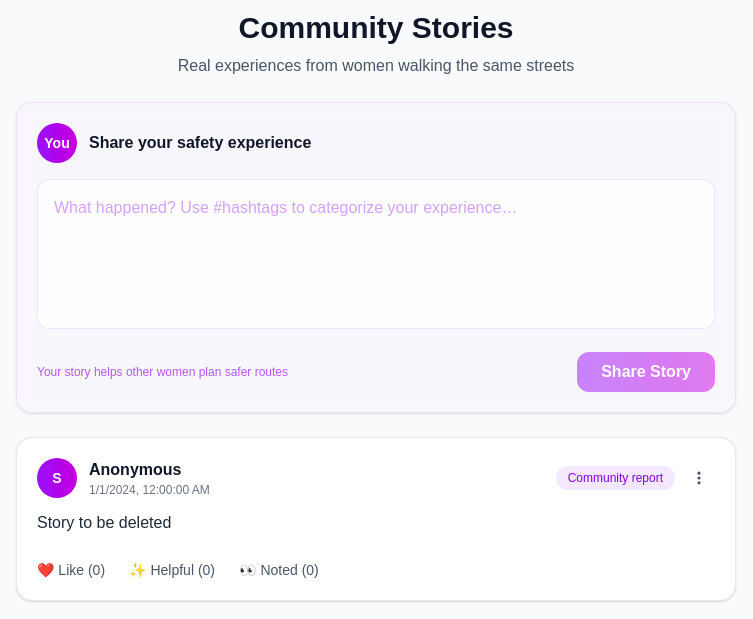
Test: StoryFeed Integration › should handle delete action by removing story from feed
This screenshot has width=753, height=619.
Expected: the text "Story to be deleted" is shown, [37,514,171,531]
# Find and click the three-dot menu
Click the button named "Story options" at (699, 478), box [683,462,715,494]
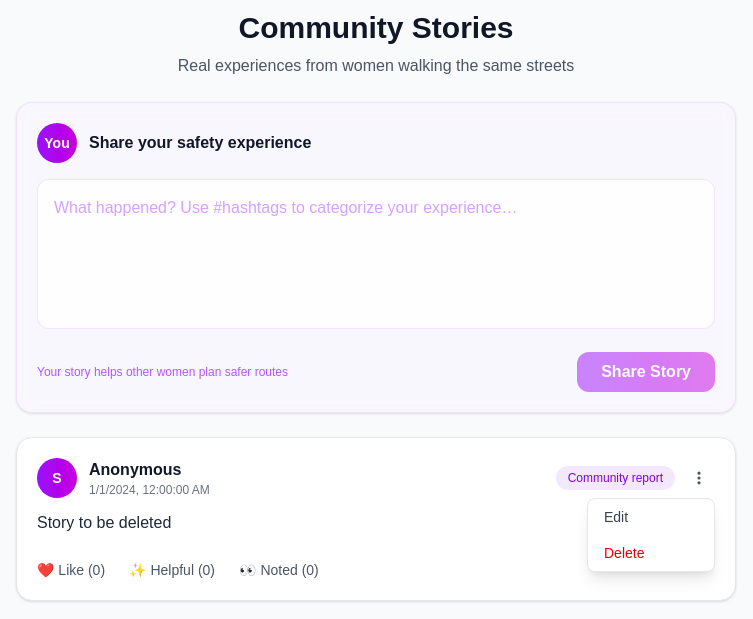
# Click delete
Click the button "Delete" at (651, 553), box [588,535,714,571]
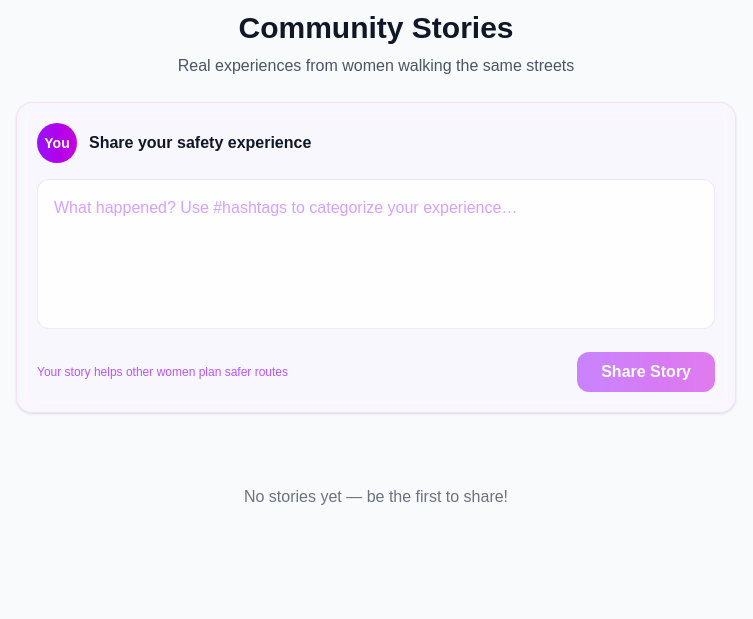
Now the text "Story to be deleted" is gone
